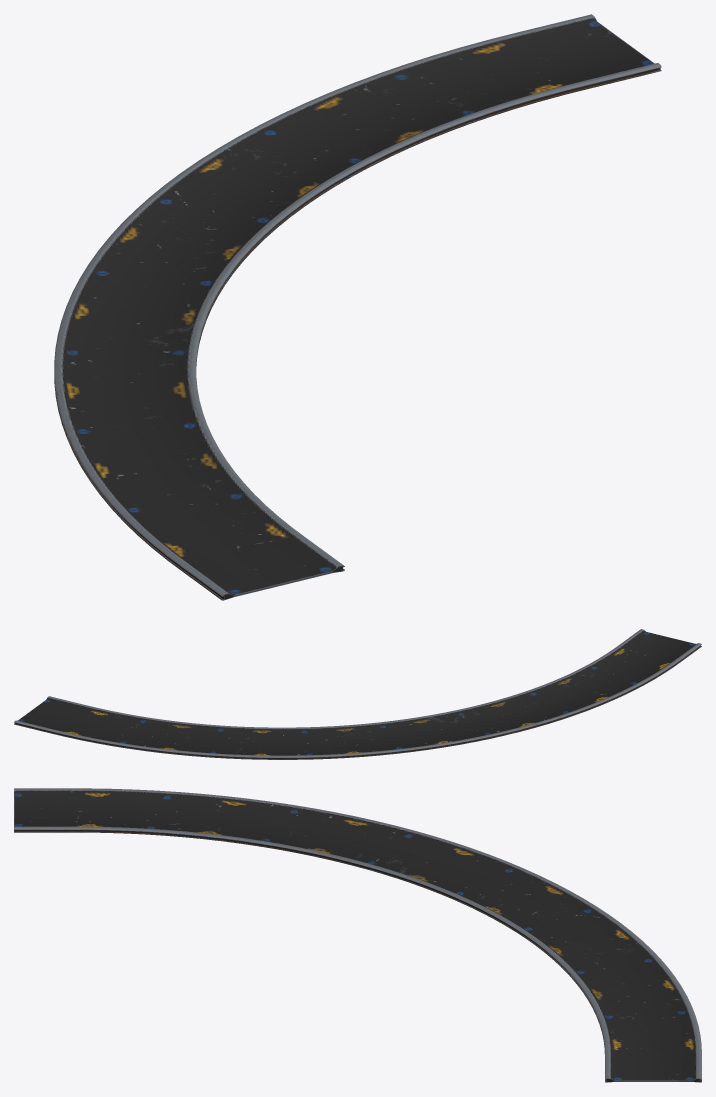
Rendered from SM_Road_4.fbx.
The picture shows the model from 3 angles, top to bottom: view 1: azimuth 30°, elevation 25°; view 2: azimuth 150°, elevation 25°; view 3: azimuth 270°, elevation 25°; orthographic projection. The views are drawn at different scales.
Visible parts, largest first — view 1: SM_Road_4; view 2: SM_Road_4; view 3: SM_Road_4.
Part boxes in pixels (x1,y1,x2,y2): SM_Road_4: (54, 14, 661, 600); SM_Road_4: (14, 629, 701, 759); SM_Road_4: (14, 788, 701, 1082).
Size of the model in its own units: 4828 by 31.13 by 4828.
